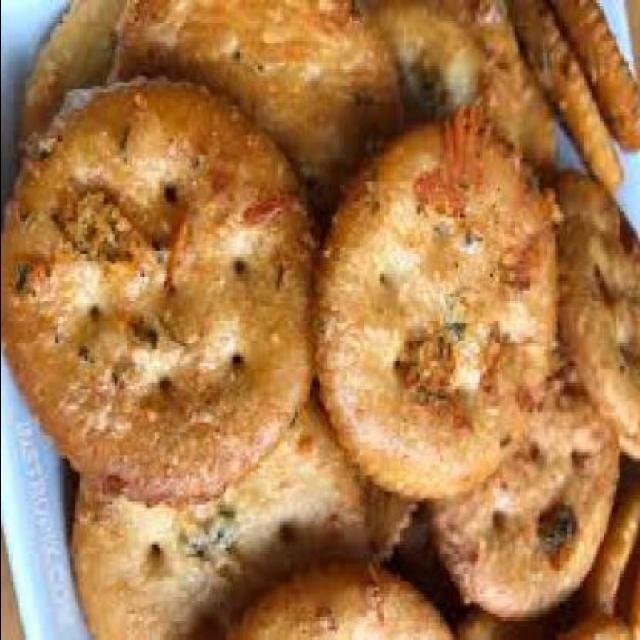Ritz cracker packaged: (14, 7, 630, 630)
